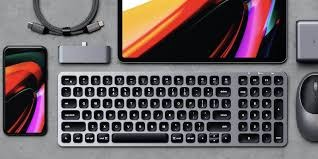keyboard: (57, 72, 287, 147)
